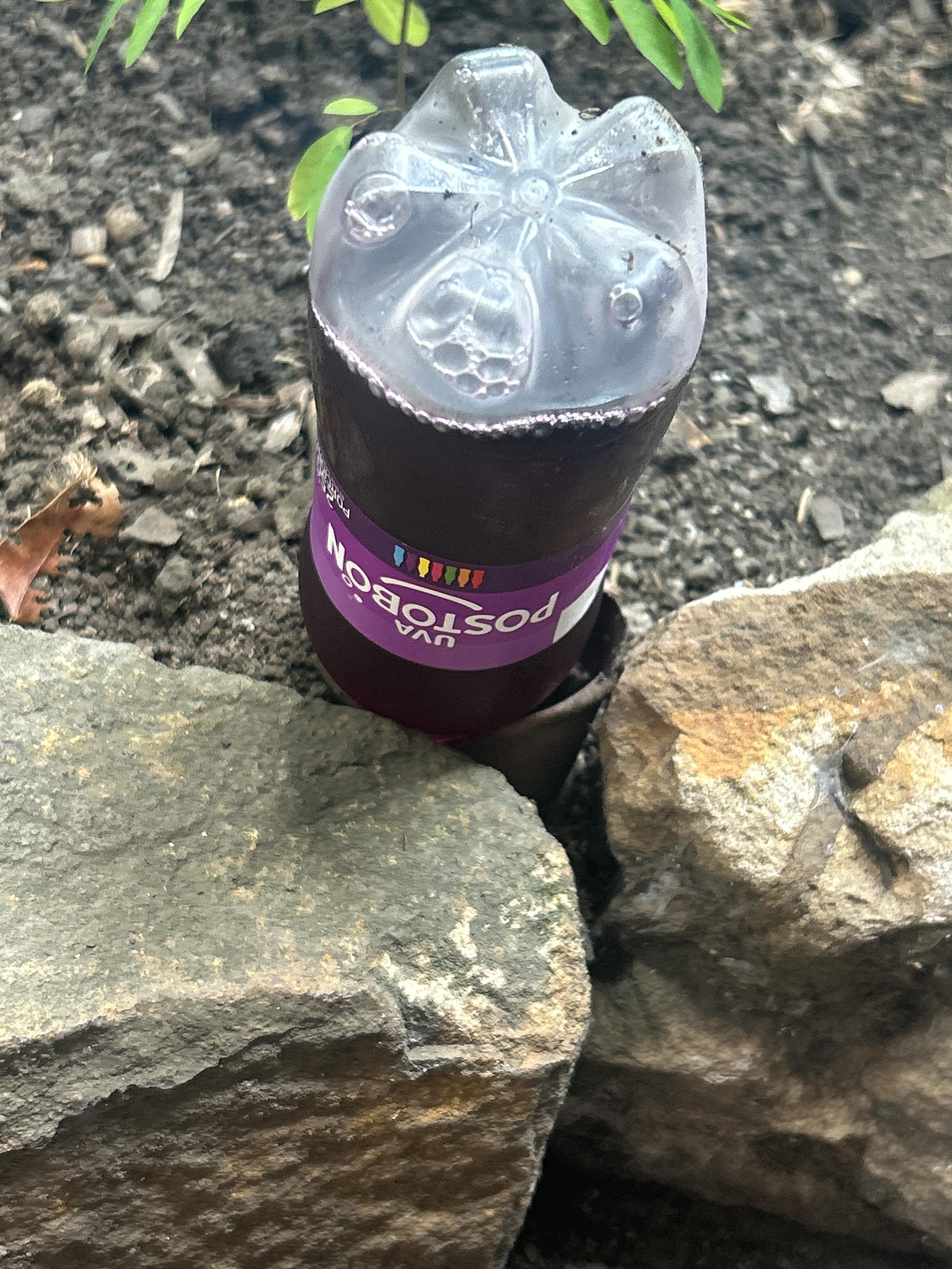uva: (300, 46, 706, 739)
